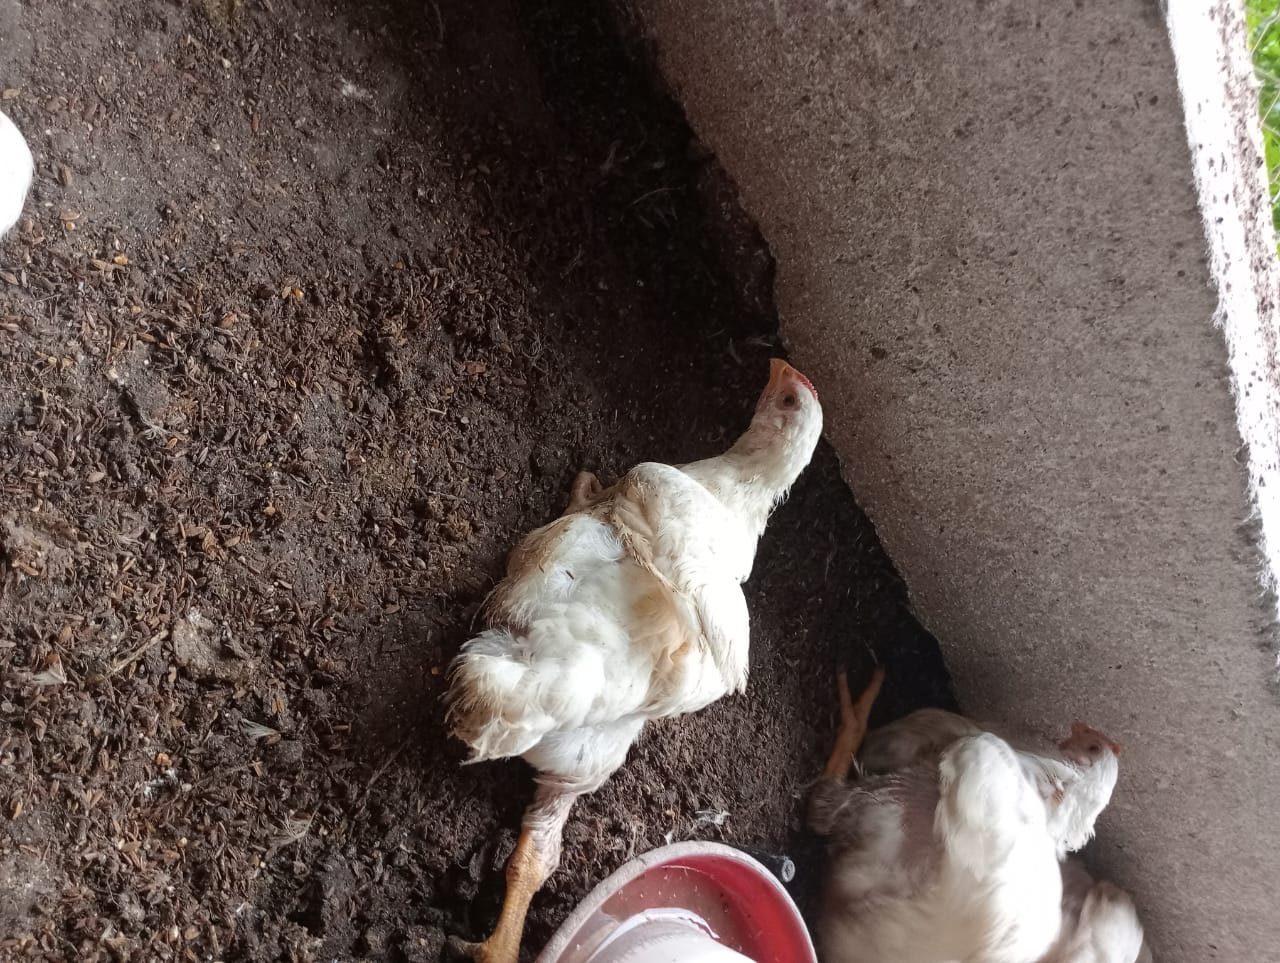Unhealthy: (413, 318, 823, 946)
